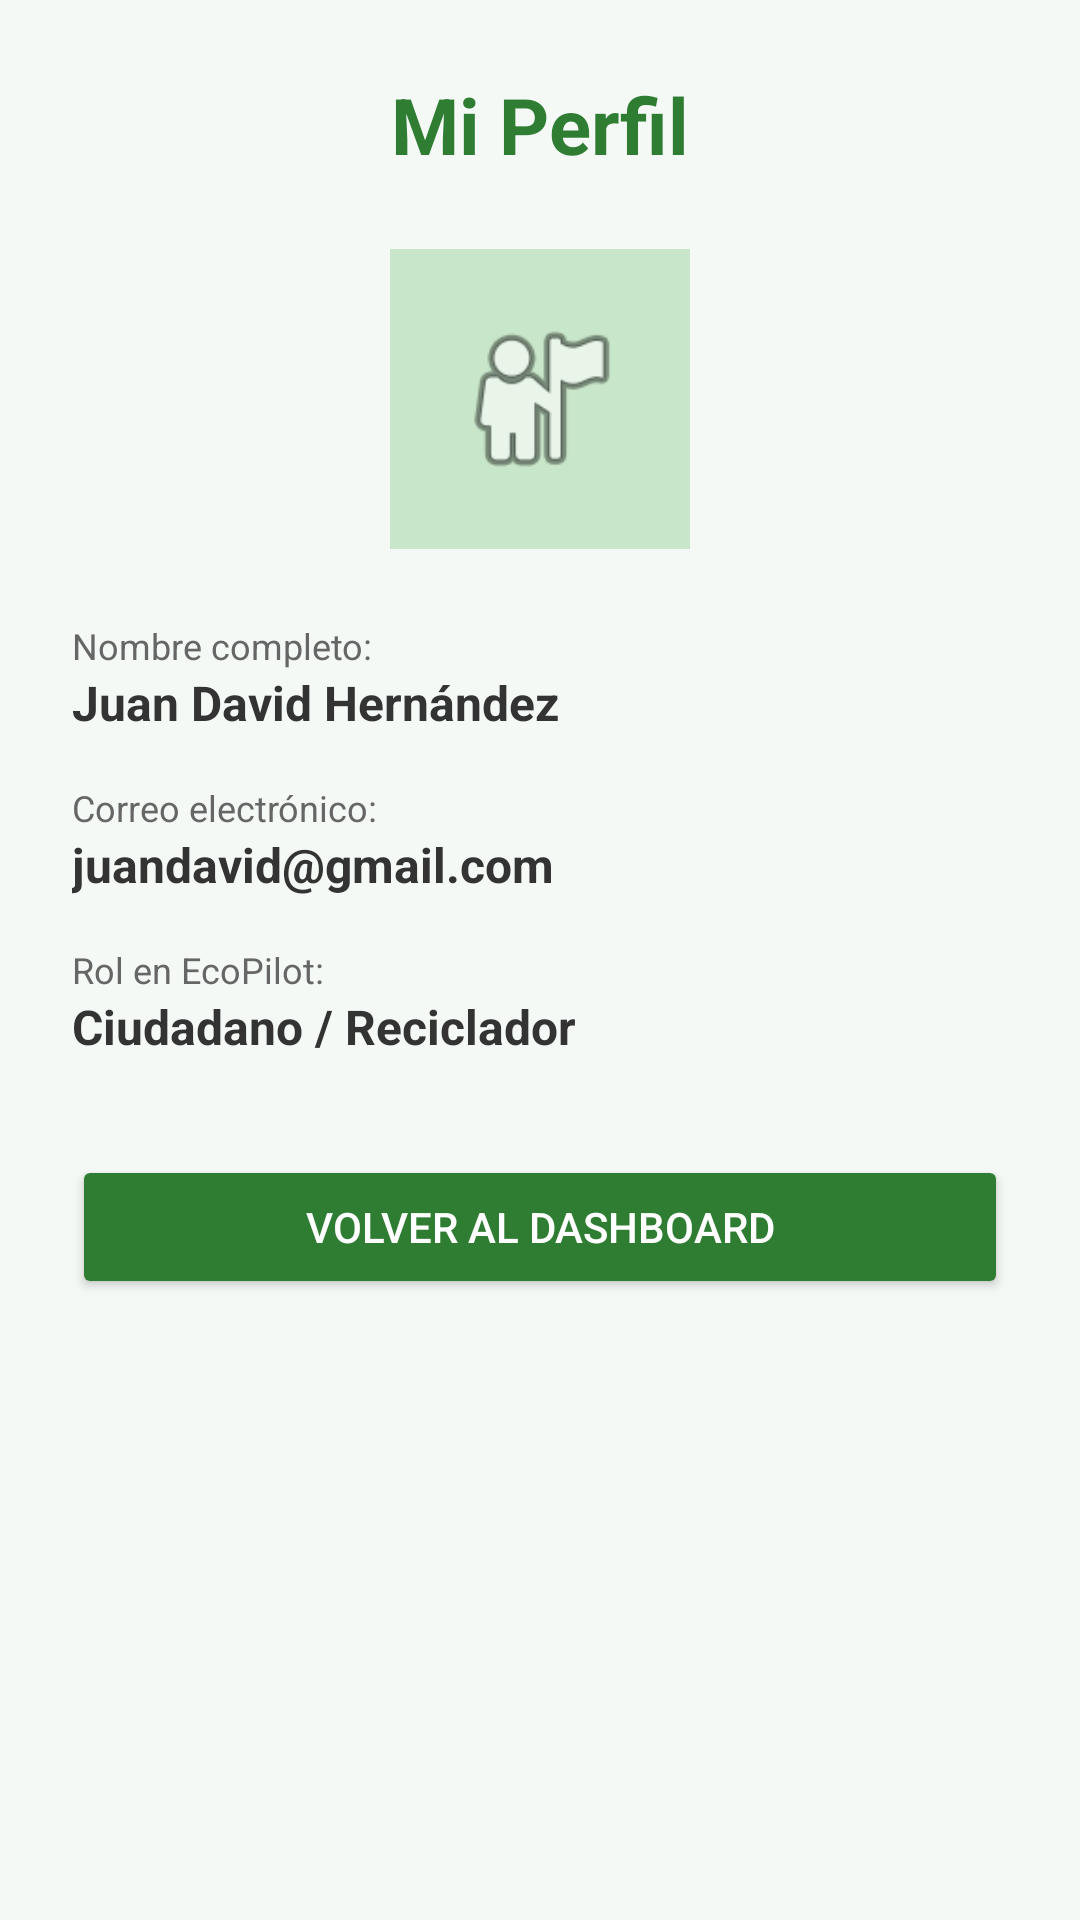

Screen size 1080px x 1920px. Icon name, then its center in pixels as (x=x, y=y):
myplaces: (x=540, y=399)
